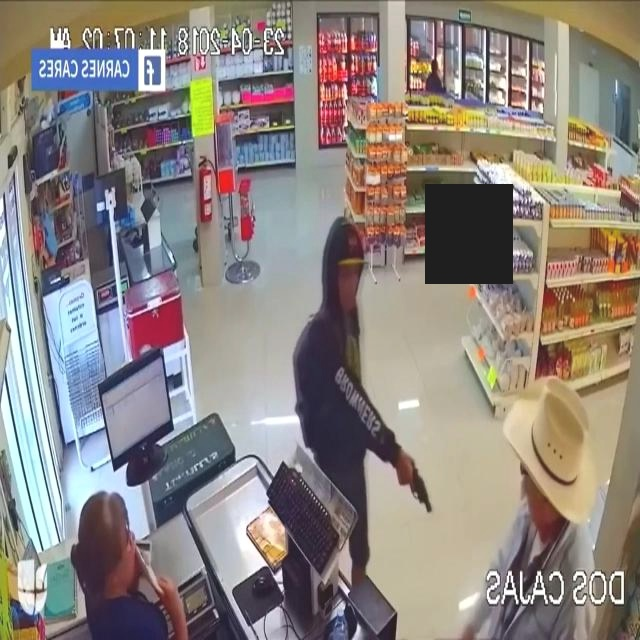gun: (401, 428, 439, 533)
